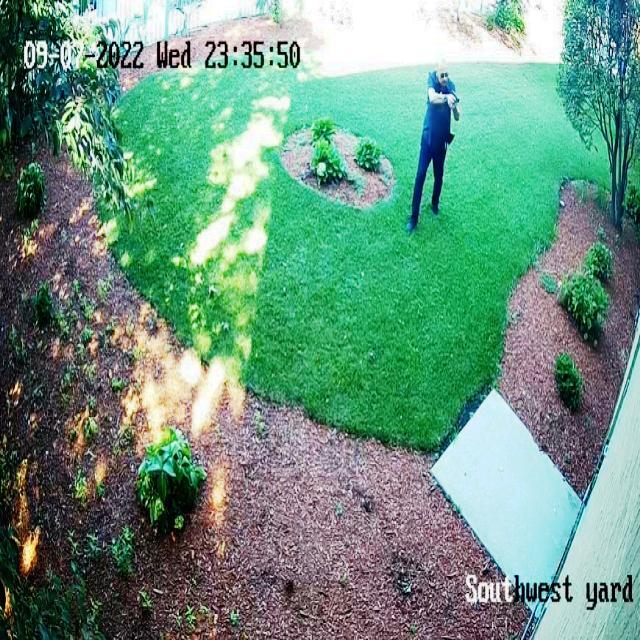Gun: (448, 91, 468, 113)
